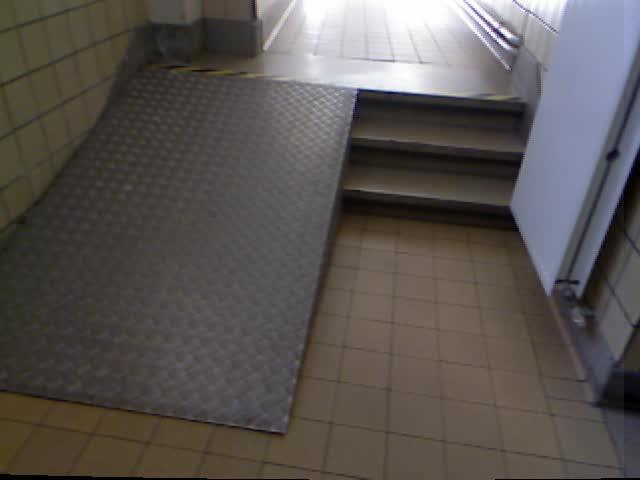Escaleras: (338, 72, 524, 232)
